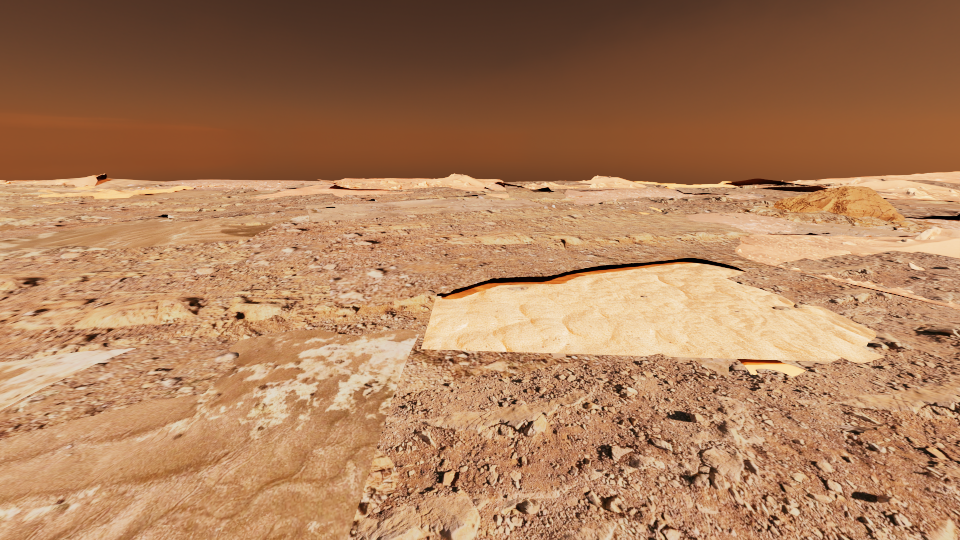bedrock: (347, 250, 959, 539), (0, 286, 436, 335), (569, 185, 959, 236), (137, 191, 584, 221), (430, 218, 749, 250), (0, 269, 170, 289), (175, 181, 313, 194), (351, 222, 466, 231), (216, 217, 287, 224), (905, 180, 959, 189), (0, 201, 66, 208), (503, 181, 591, 186), (388, 187, 464, 192), (0, 189, 52, 196), (102, 218, 149, 225), (112, 201, 209, 204), (895, 200, 959, 204), (516, 213, 560, 218), (0, 215, 43, 220), (533, 187, 566, 193), (700, 358, 737, 362), (505, 185, 530, 189), (643, 184, 667, 188), (507, 286, 528, 290), (772, 306, 790, 310), (779, 184, 807, 186), (552, 353, 565, 357), (814, 183, 835, 185)
rocks: (774, 186, 904, 221)
sand: (0, 329, 418, 539), (421, 258, 884, 376), (0, 215, 308, 258), (0, 348, 134, 418), (8, 179, 412, 199), (0, 214, 95, 230), (821, 171, 959, 182), (635, 181, 742, 188), (182, 258, 248, 268), (451, 179, 505, 190), (337, 178, 422, 182), (401, 185, 429, 189), (0, 182, 55, 184), (487, 194, 509, 197), (567, 185, 587, 187)
soil: (0, 184, 959, 318), (0, 315, 291, 439), (393, 326, 639, 397), (0, 196, 256, 239), (108, 180, 325, 190), (331, 191, 467, 204), (877, 189, 959, 210), (725, 180, 814, 191), (225, 210, 308, 221), (325, 180, 418, 189), (924, 189, 959, 201), (924, 216, 959, 226), (252, 202, 292, 210), (0, 184, 75, 188), (926, 299, 959, 308), (365, 206, 416, 210), (345, 331, 384, 335), (188, 187, 232, 190), (855, 178, 876, 183)
